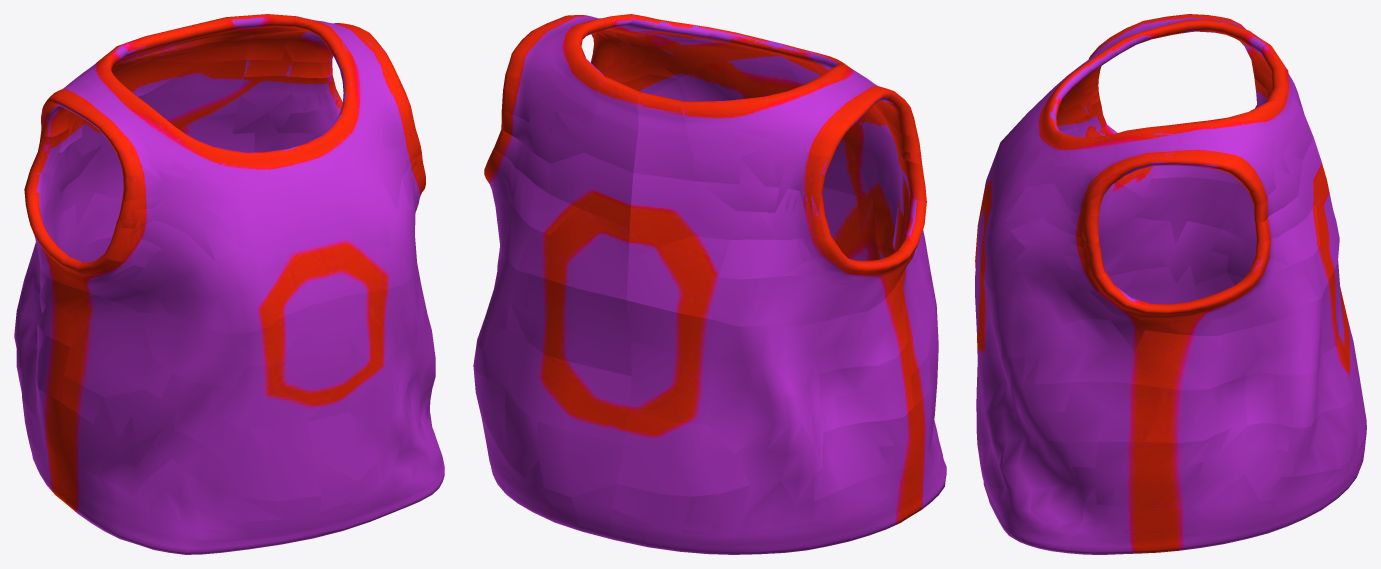
Rendered from Warmup-Purple-Red.glb.
The picture shows the model from 3 angles, left to right: view 1: azimuth 30°, elevation 25°; view 2: azimuth 150°, elevation 25°; view 3: azimuth 270°, elevation 25°; orthographic projection. The views are drawn at different scales.
Parts seen in each view (by area): view 1: Warmup-Purple-Red; view 2: Warmup-Purple-Red; view 3: Warmup-Purple-Red.
Part boxes in pixels (x1,y1,x2,y2): Warmup-Purple-Red: (14,14,444,554); Warmup-Purple-Red: (473,14,946,554); Warmup-Purple-Red: (975,14,1366,554).
Bounding box in the file's own units: 0.3436 × 0.364 × 0.316.
Materials: 1 (1 with a texture image).
